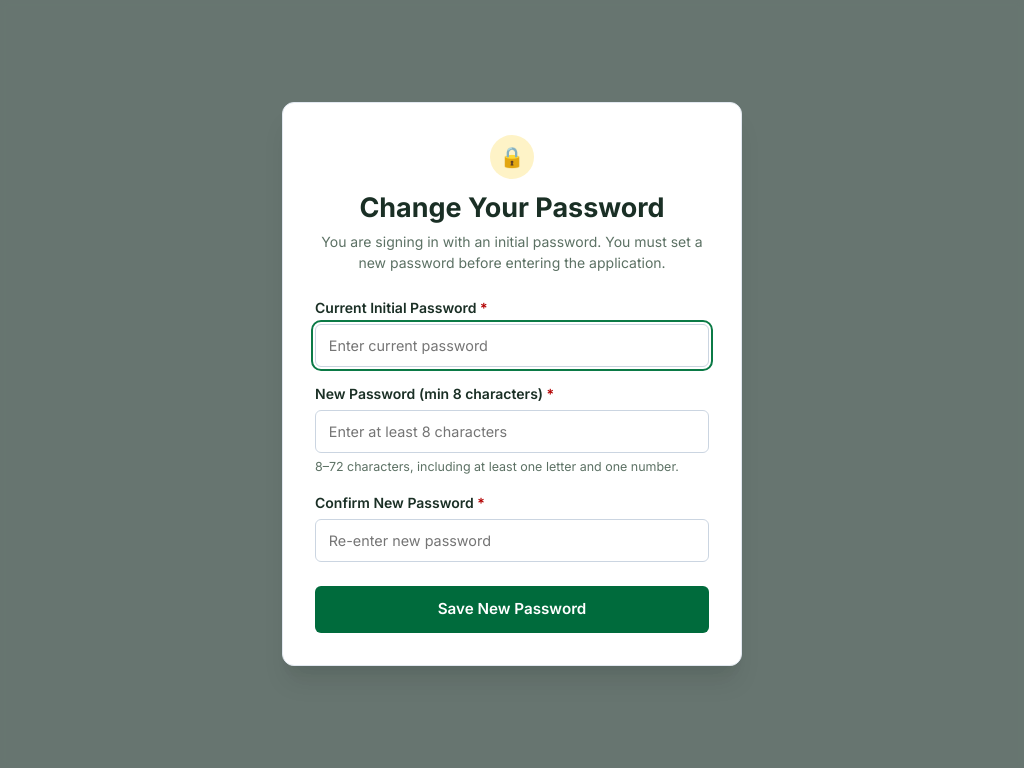
Scenario: UI-02: ChangePassword Component Tests › should show error if new password is shorter than 8 characters
Type "Initial123!" into the password field labelled "Current Initial Password *" at (512, 346), box [315, 324, 709, 367]
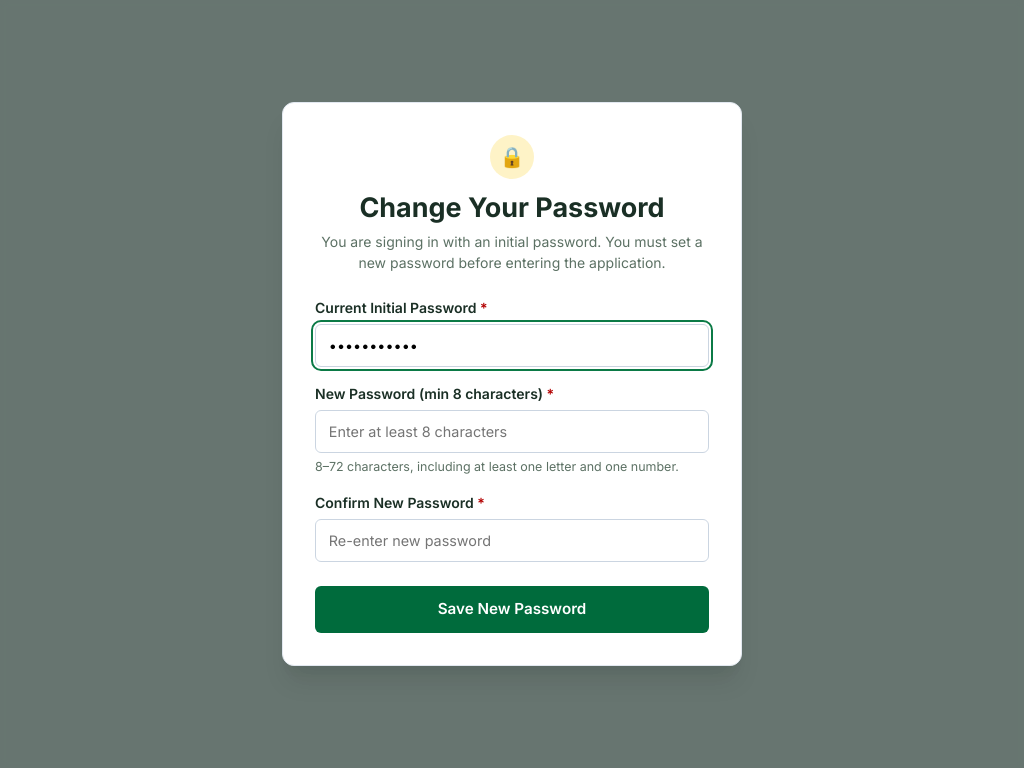
Type "short" into the password field labelled "New Password (min 8 characters) *" at (512, 432), box [315, 410, 709, 453]
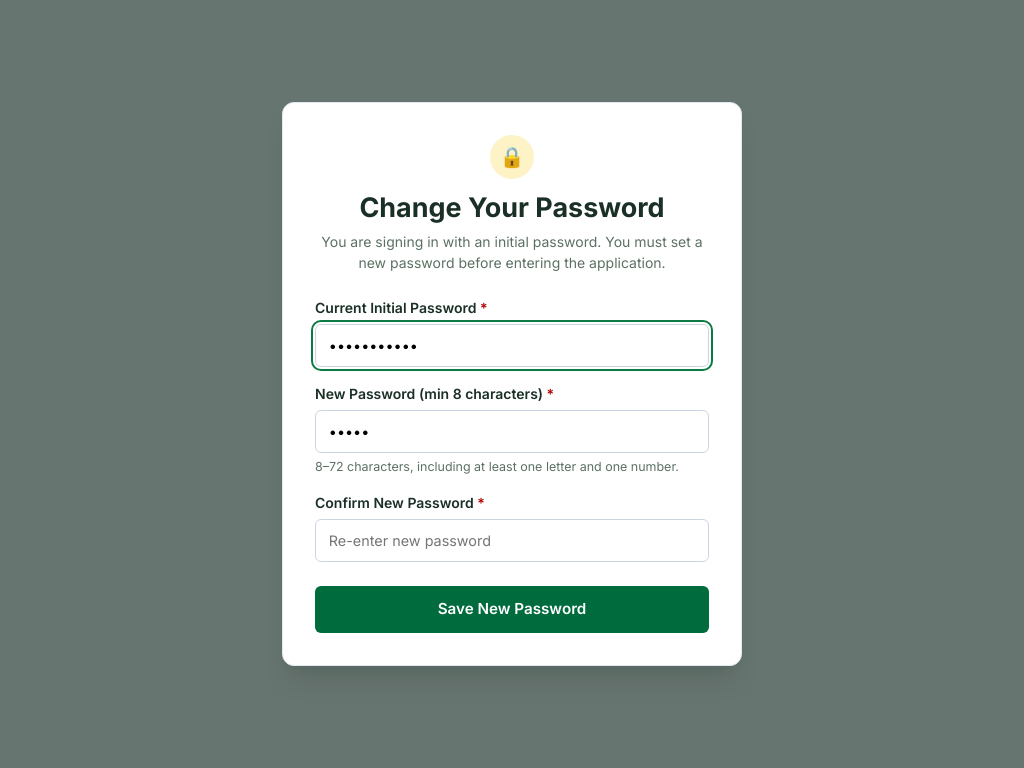
Type "short" into the password field labelled "Confirm New Password *" at (512, 541), box [315, 519, 709, 562]
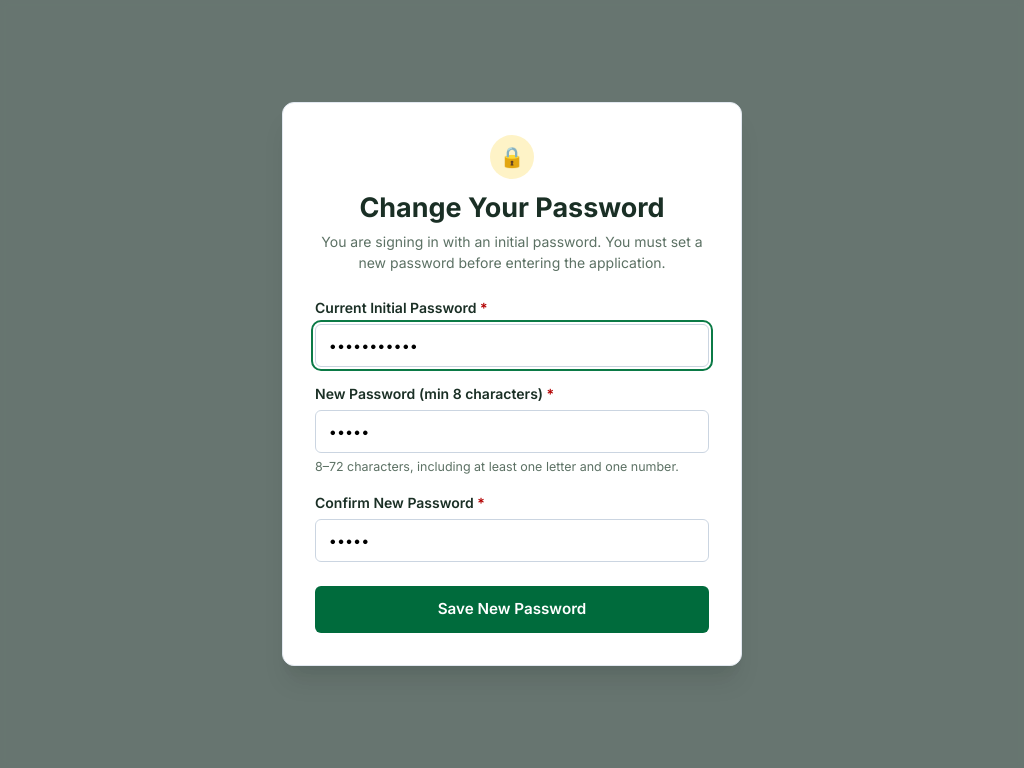
Click the button "Save New Password" at (512, 610), box [315, 586, 709, 633]
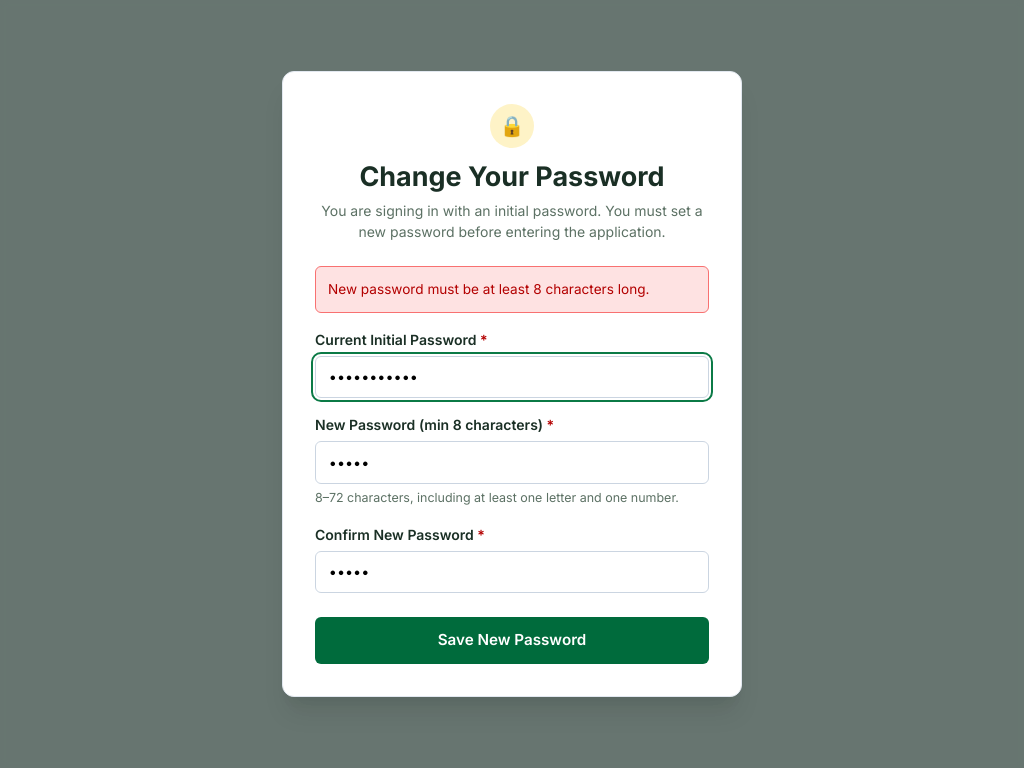
Result: the message shows "at least 8 characters" at [328, 281, 650, 297]
